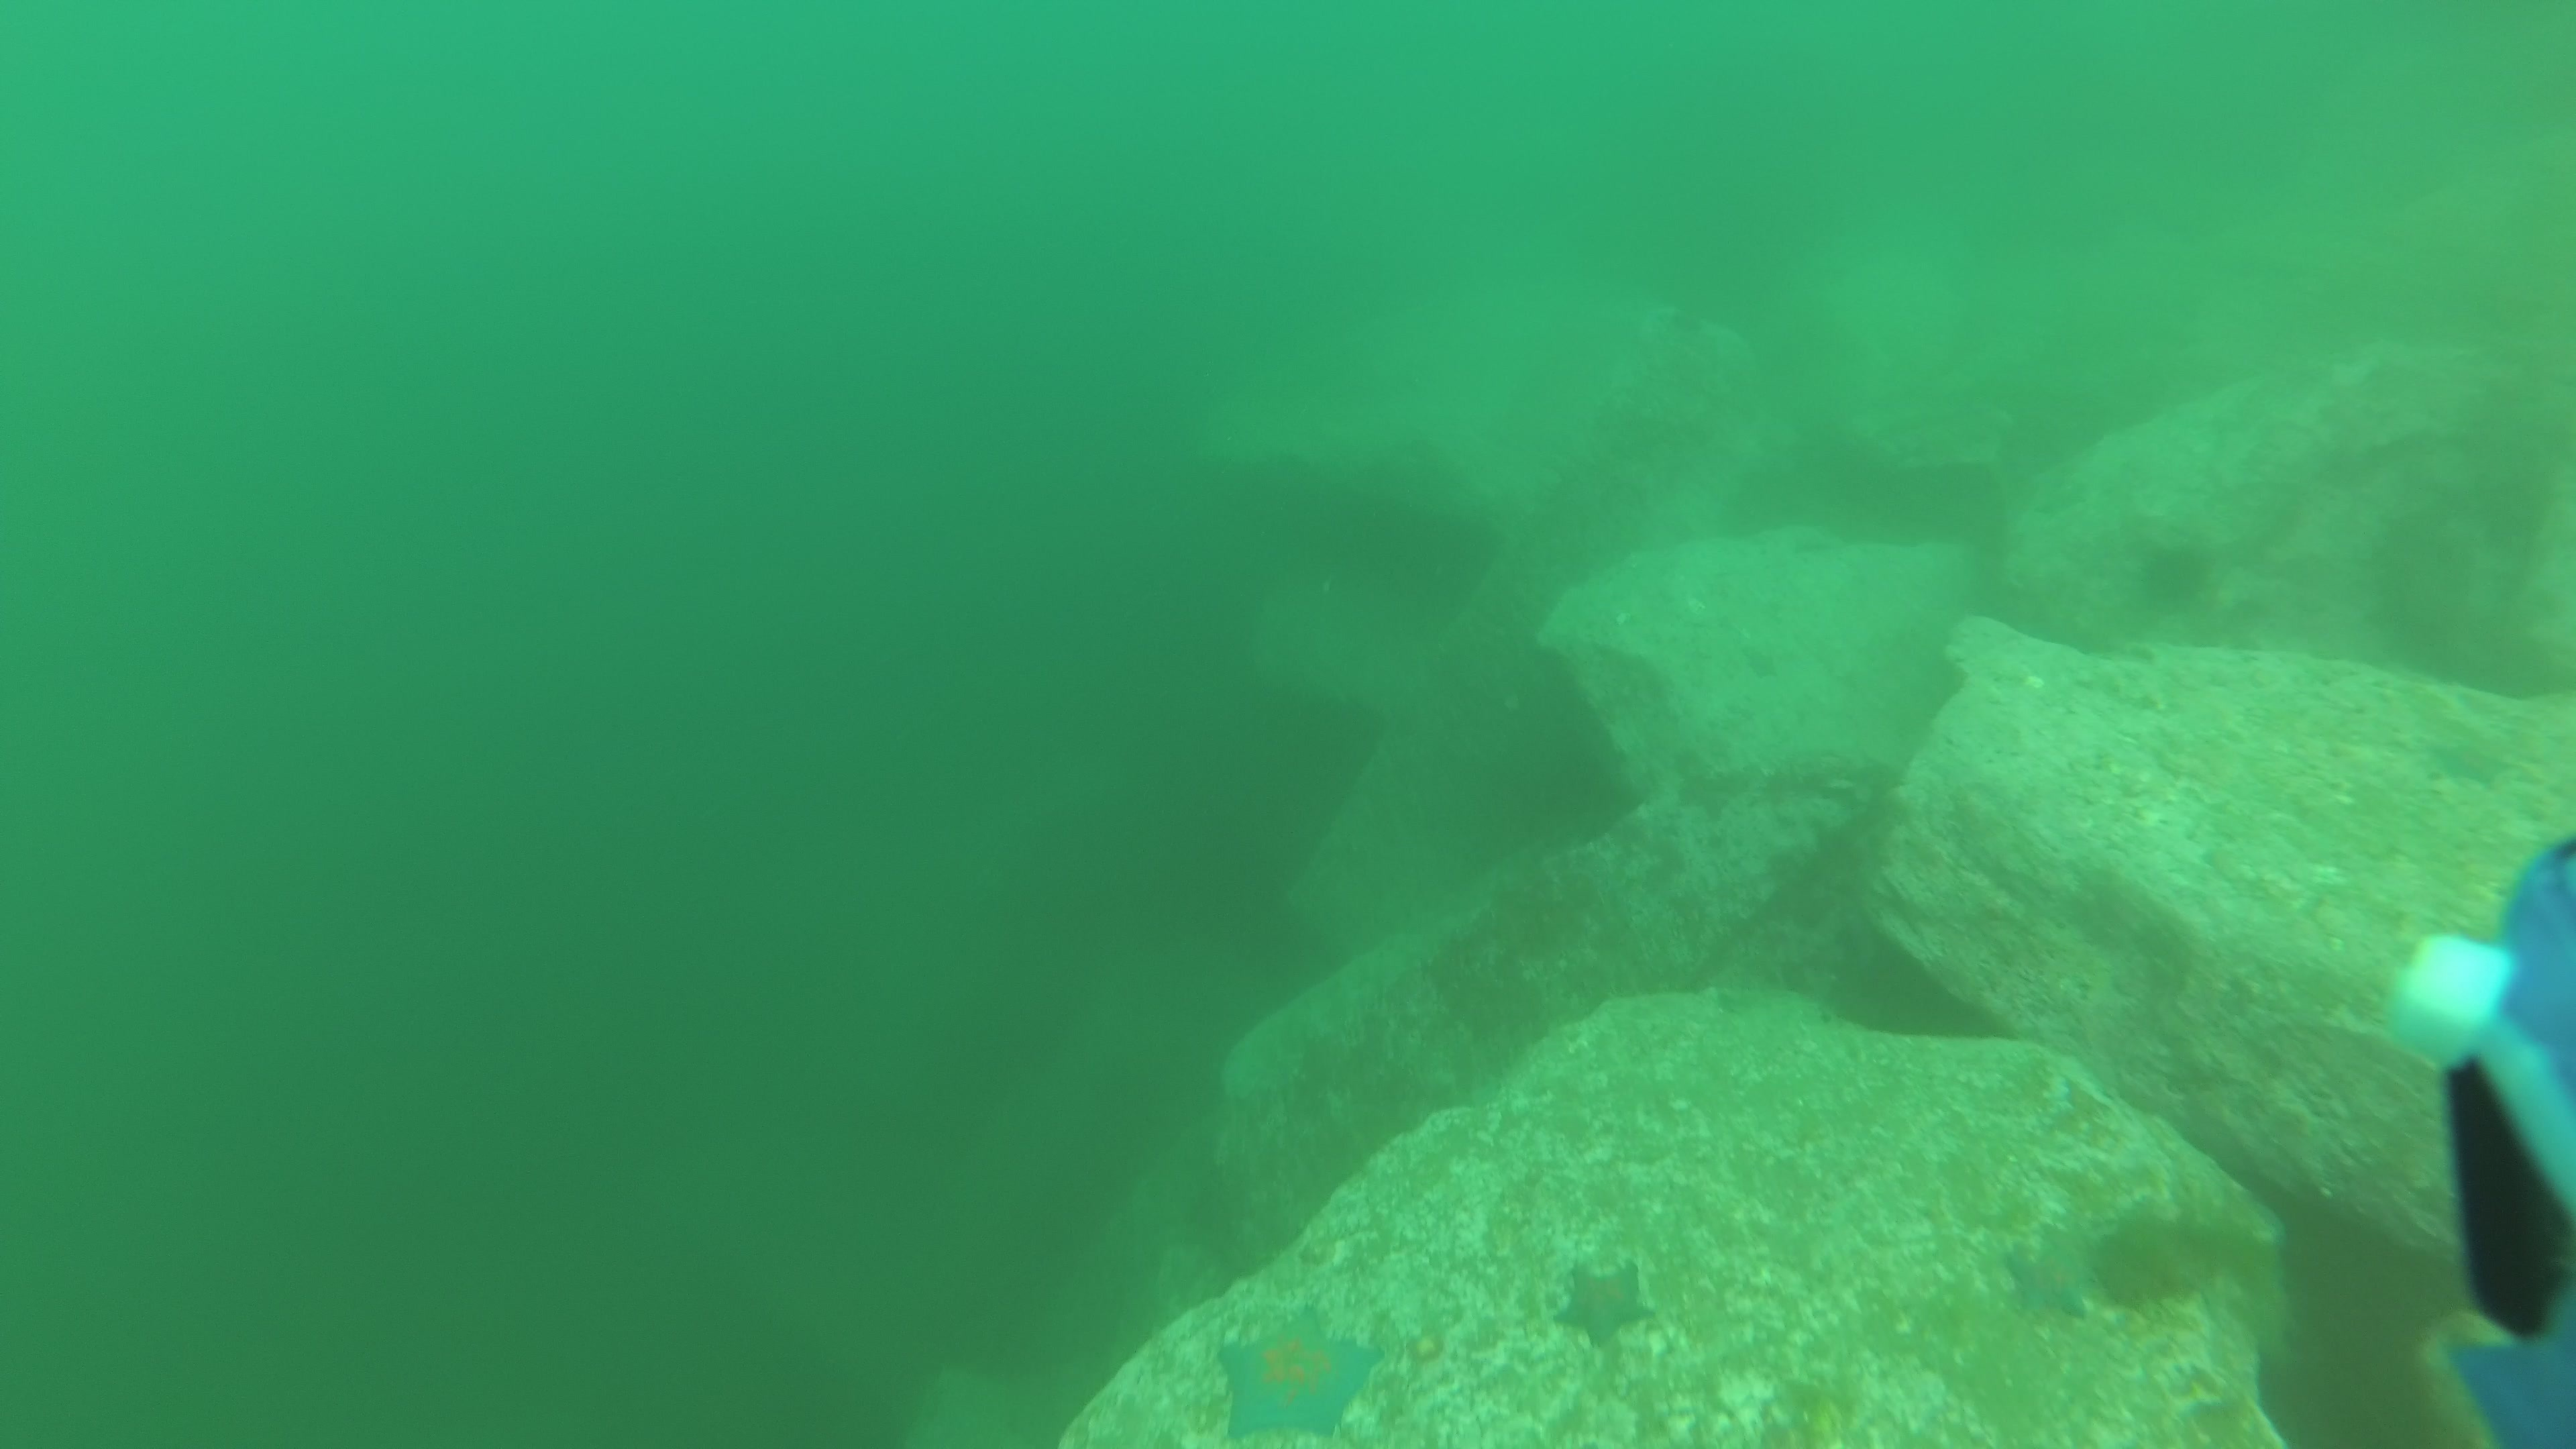echinus: (2097, 1189, 2219, 1313), (2123, 515, 2245, 639)
starfish: (1212, 1297, 1382, 1447), (1552, 1260, 1663, 1355), (2005, 1226, 2098, 1329), (2422, 720, 2525, 800)
